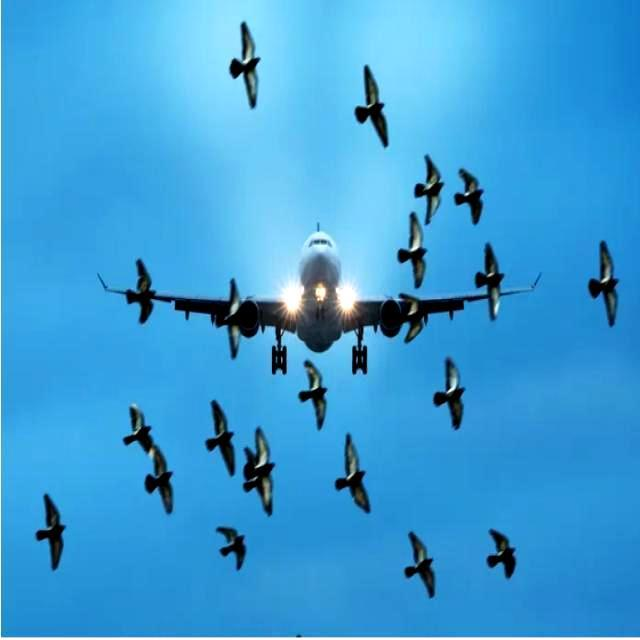bird: (221, 20, 271, 110), (580, 232, 626, 328), (28, 491, 78, 578), (242, 424, 288, 516), (400, 525, 452, 605), (329, 432, 376, 520), (136, 446, 188, 525), (354, 61, 394, 150), (198, 392, 237, 482), (428, 356, 473, 433), (479, 517, 521, 587), (207, 513, 254, 570), (110, 402, 163, 452), (453, 158, 493, 224), (476, 238, 508, 320), (396, 210, 428, 290), (298, 355, 330, 432), (124, 247, 154, 329), (416, 152, 450, 220)
